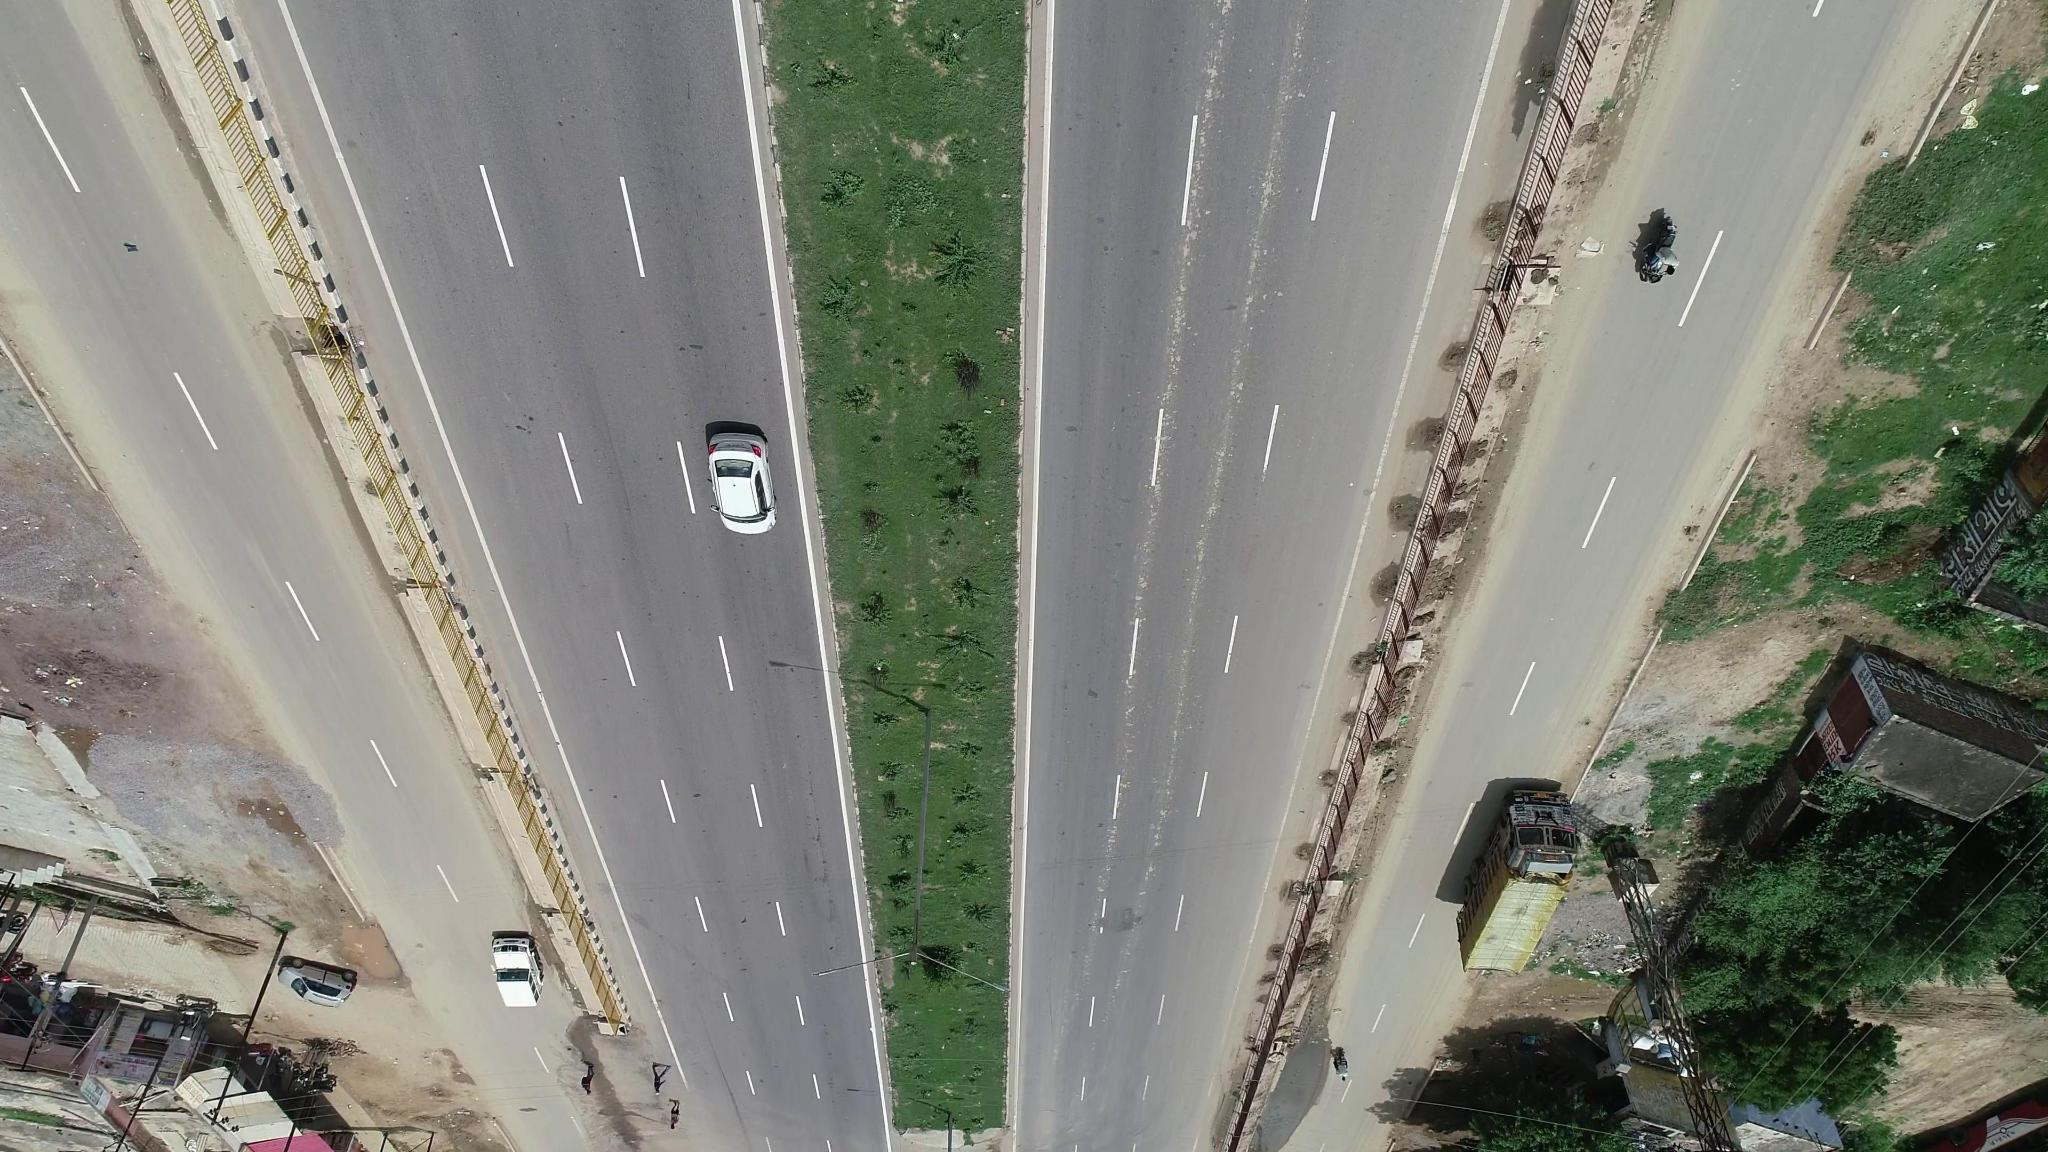Ravelling: (1248, 21, 1310, 283), (1183, 8, 1236, 232), (1148, 641, 1200, 850), (1207, 304, 1255, 523), (1158, 259, 1193, 412)
